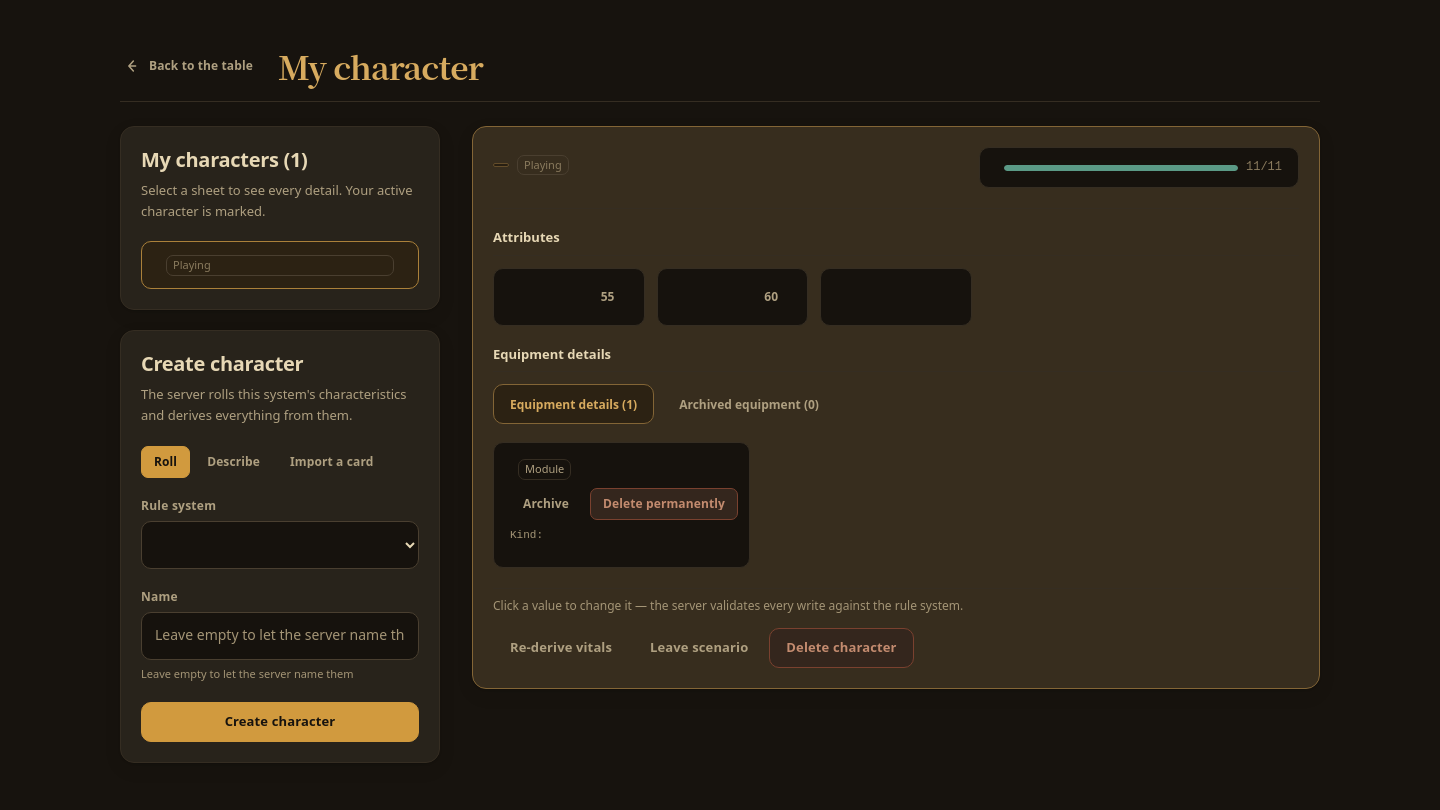
Test: CharacterScreen — item detail › cancels an armed item delete without sending anything
The width and height of the screenshot is (1440, 810).
Click the button "Delete permanently". click: point(664, 504)
box: top-left (590, 488), bottom-right (738, 520)
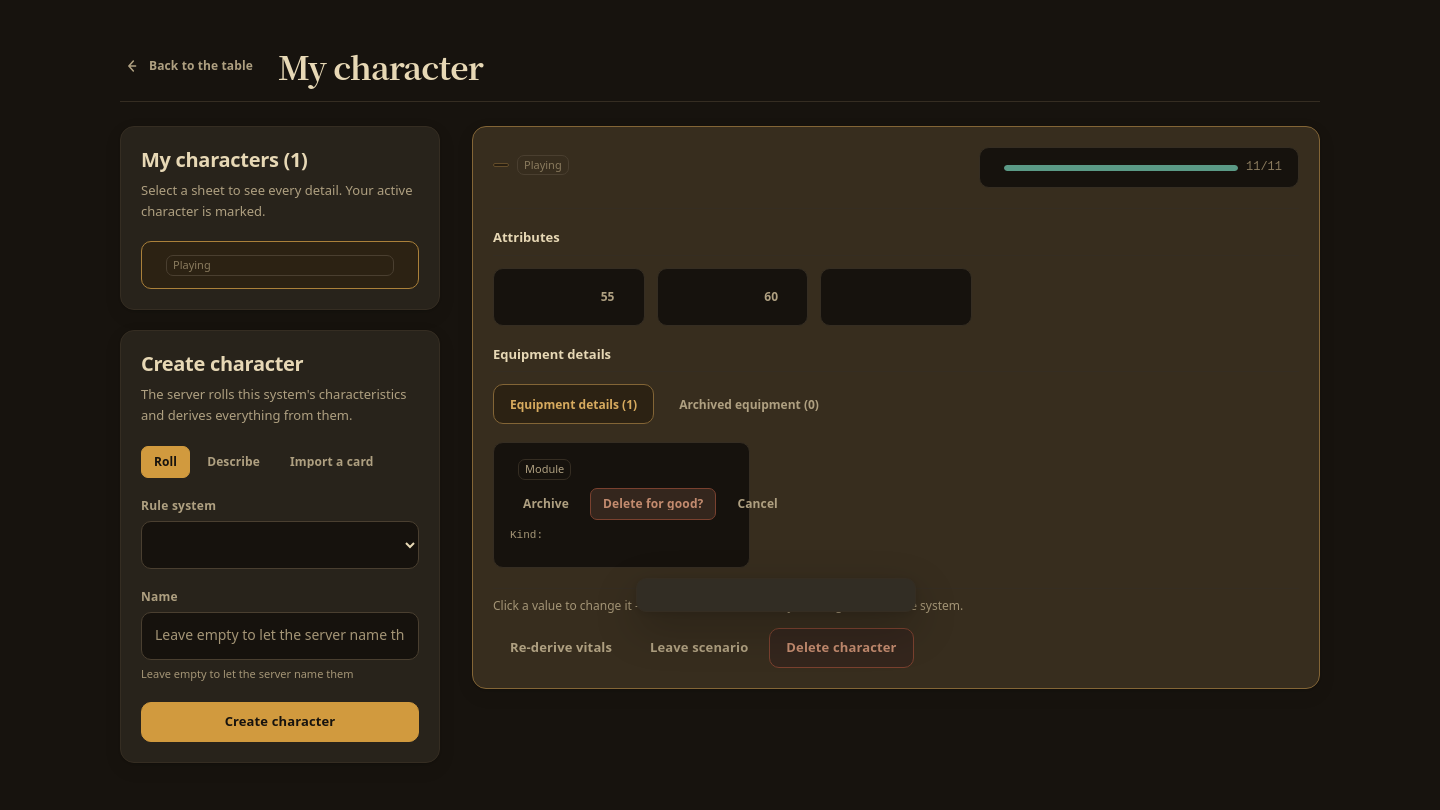
Click the button "Cancel". click: point(758, 504)
box: top-left (724, 488), bottom-right (791, 520)
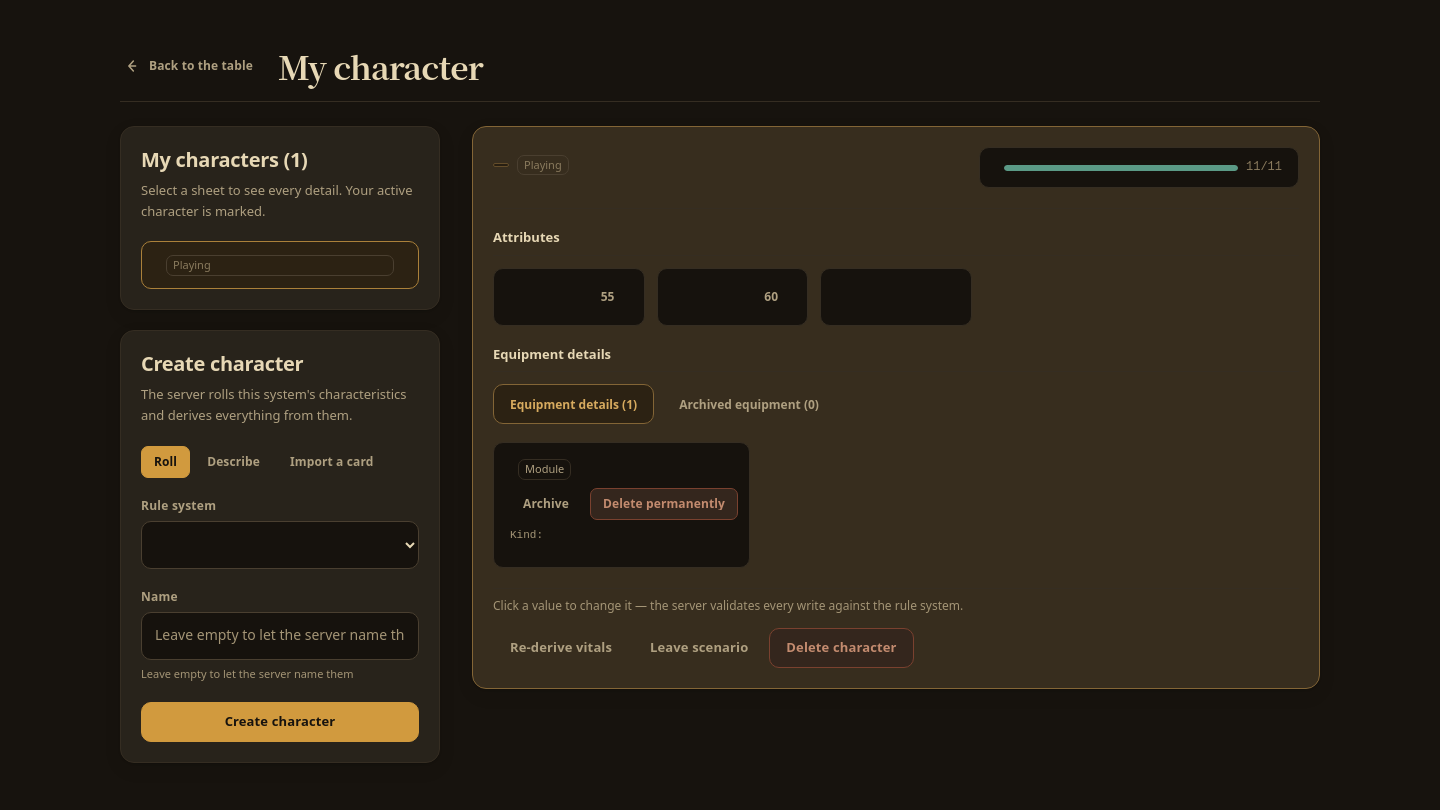
expect the button "Delete permanently" is shown: met, box top-left (590, 488), bottom-right (738, 520)
